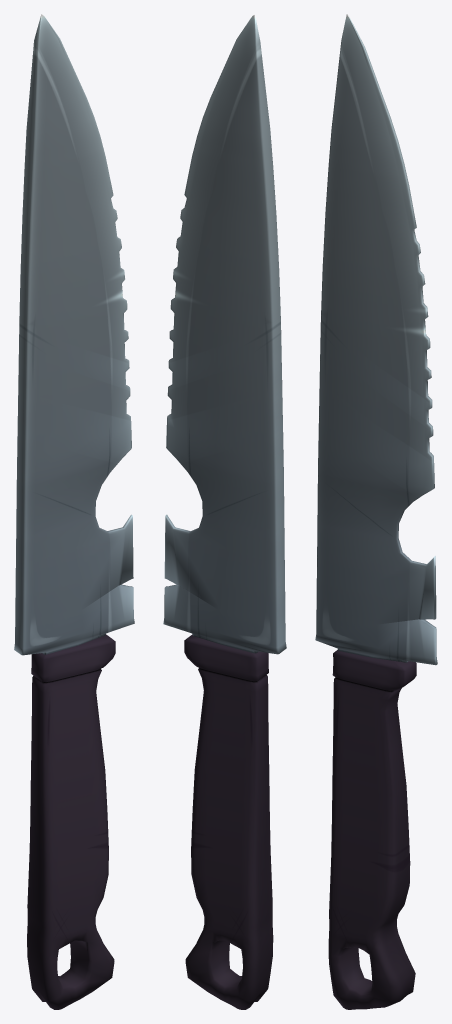
The model's file is Knife.fbx.
3 renders of one model, left to right at view 1: azimuth 30°, elevation 25°; view 2: azimuth 150°, elevation 25°; view 3: azimuth 330°, elevation 25°, orthographic.
Visible parts, largest first — view 1: Knife; view 2: Knife; view 3: Knife.
Boxes of the visible parts, bbox=[...] form: Knife: bbox=[14, 14, 134, 1009]; Knife: bbox=[163, 14, 286, 1009]; Knife: bbox=[315, 14, 437, 1009].
Size of the model in its own units: 11.33 by 91.43 by 3.65.
